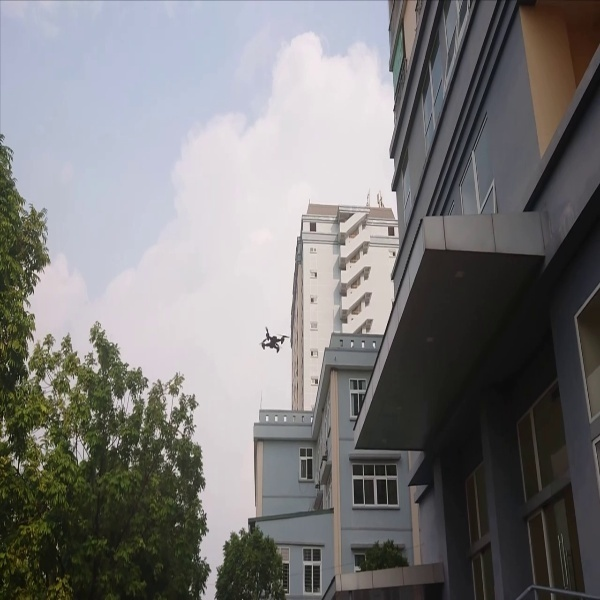drone: (254, 323, 291, 358)
